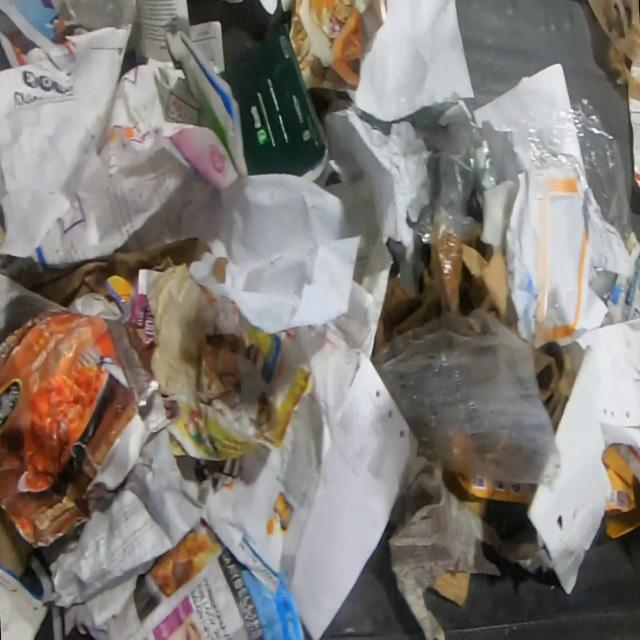cardboard: (370, 228, 579, 431), (0, 310, 160, 545), (526, 371, 612, 593), (215, 21, 330, 182), (0, 509, 37, 579), (629, 95, 640, 188)
soft_plastic: (370, 308, 563, 496), (494, 99, 633, 255), (404, 100, 498, 246), (585, 0, 640, 103), (587, 268, 616, 296)
